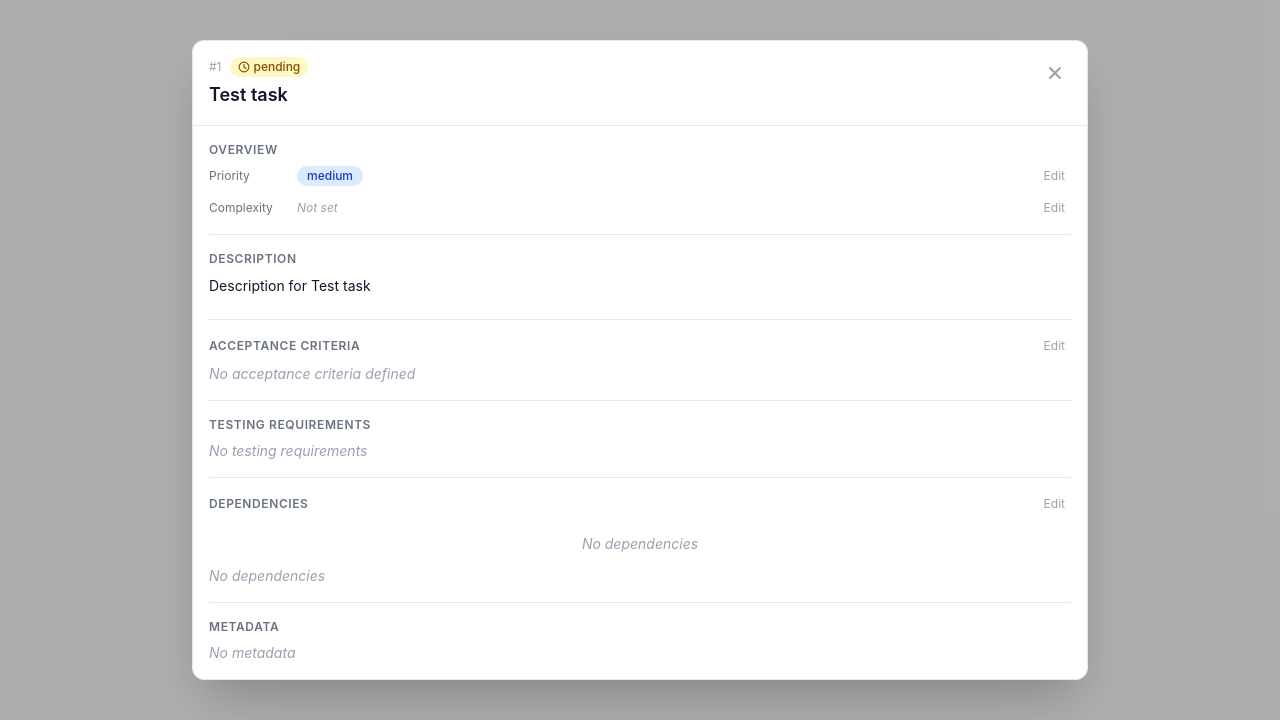
Test: TaskDetailPanel inline editing › priority editing › cancels priority editing on cancel button click
Click the button with test id "edit-priority-button".
click(1054, 176)  # box [1038,166,1071,186]
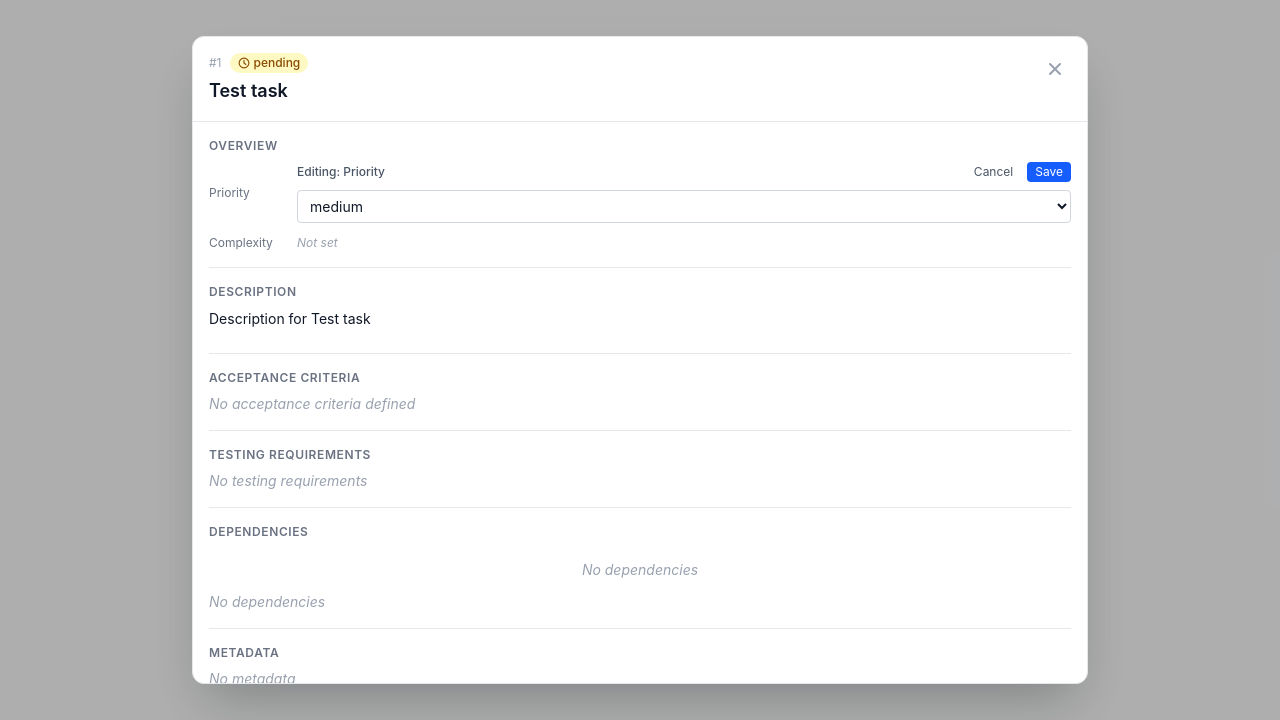
Now the dropdown with test id "priority-select" is shown, box [297,190,1071,223]
Click the button with test id "field-cancel-button".
click(994, 172)  # box [966,162,1021,182]
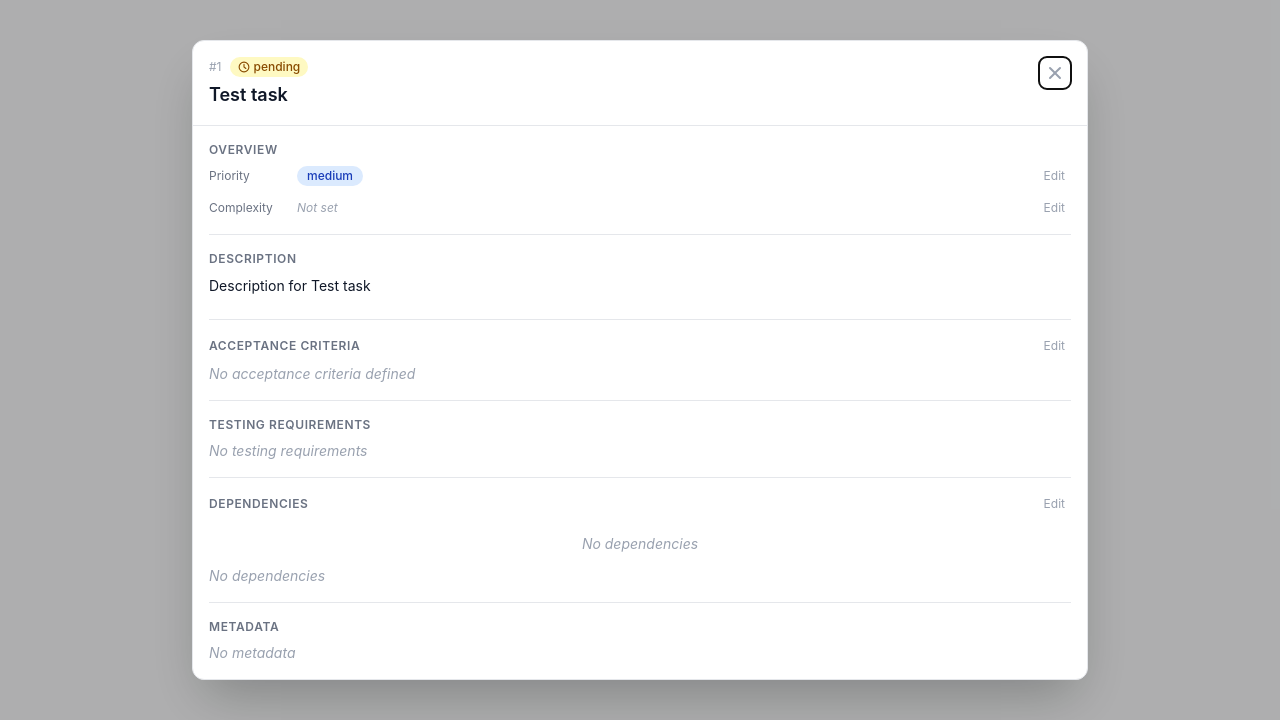
Now the dropdown with test id "priority-select" is gone
